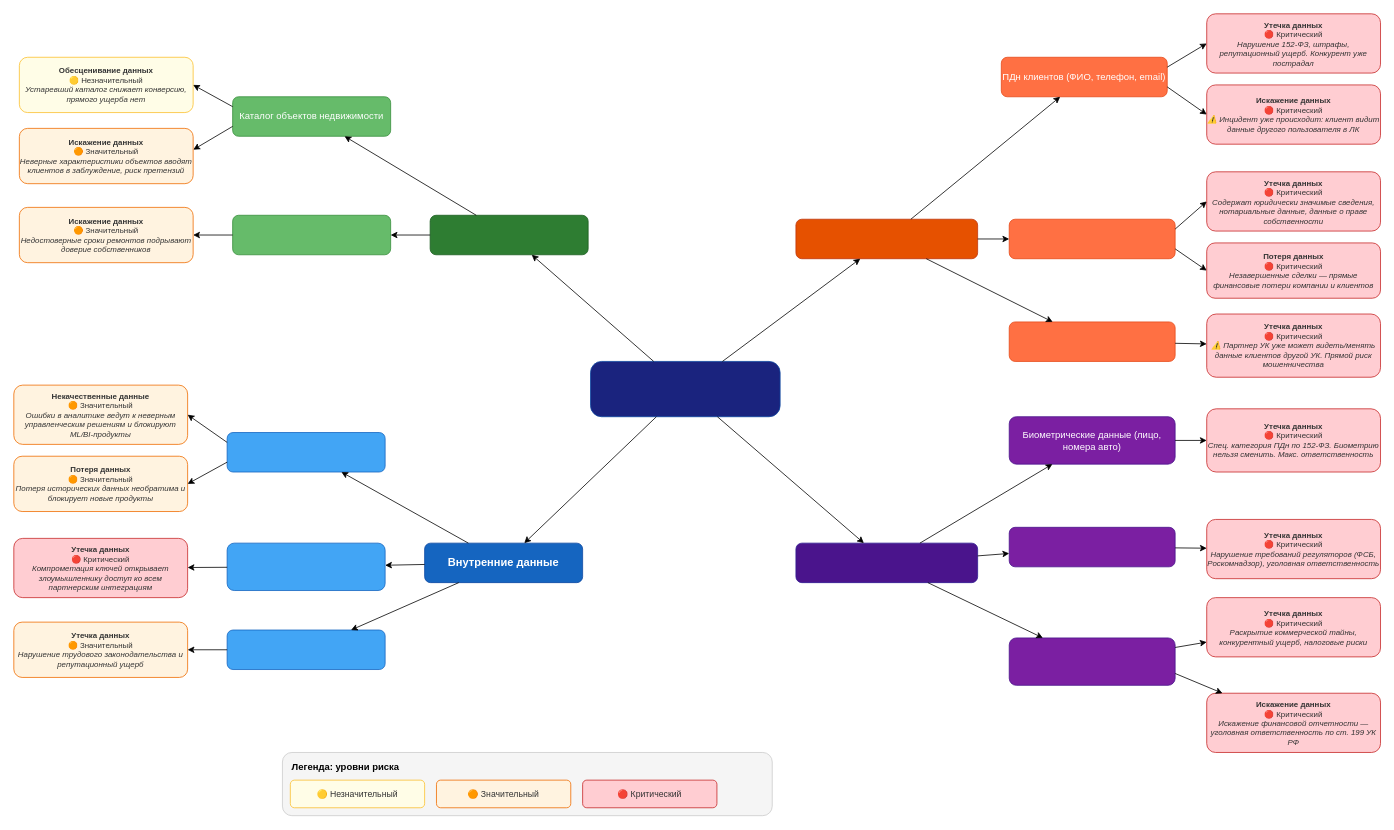
Some shapes in this 1394 by 830 pixel diagram are drawn without their labels. The shapes that lost their labels are listed below. From the top down, each one's box as (x1, y1, x2, y2) in pixels, then its label:
(232, 214, 391, 255): Информация о плановых работах ЖКХ
(429, 214, 588, 255): Публичные данные
(795, 218, 978, 259): Конфиденциальные данные
(1008, 218, 1175, 259): Данные онлайн-сделок
(1008, 321, 1175, 361): Платежные данные ЖКУ
(590, 361, 780, 417): Безопасность данных
(226, 432, 385, 472): Аналитика и BI-отчетность
(226, 542, 385, 591): Конфиги систем и API-ключи партнеров
(795, 542, 978, 583): Секретные данные
(1008, 527, 1175, 567): Данные СМЭВ / Гос. органы
(226, 629, 385, 670): Данные сотрудников (HR)
(1008, 637, 1175, 685): Финансовая отчетность (accountant-service-1)
